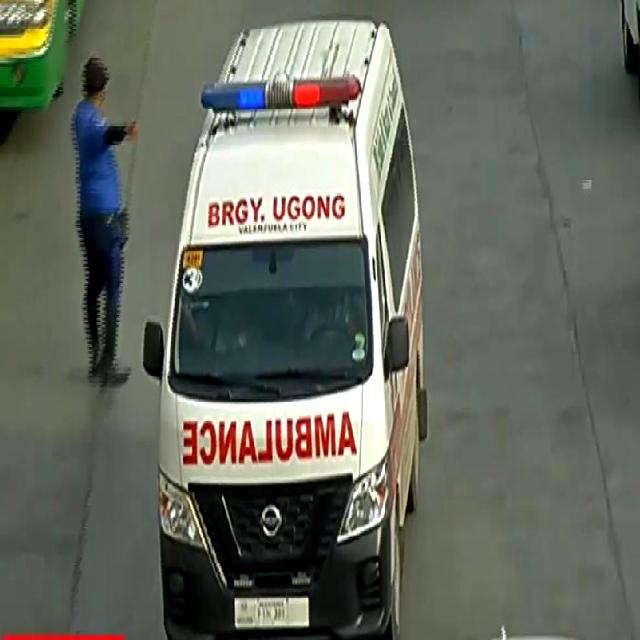emergency: (140, 20, 432, 640), (0, 0, 91, 116), (613, 0, 640, 110)
